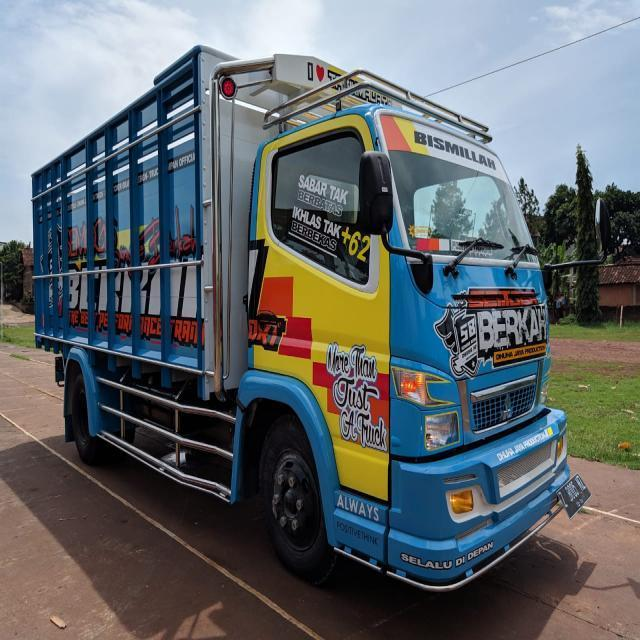truck: (31, 43, 584, 596)
